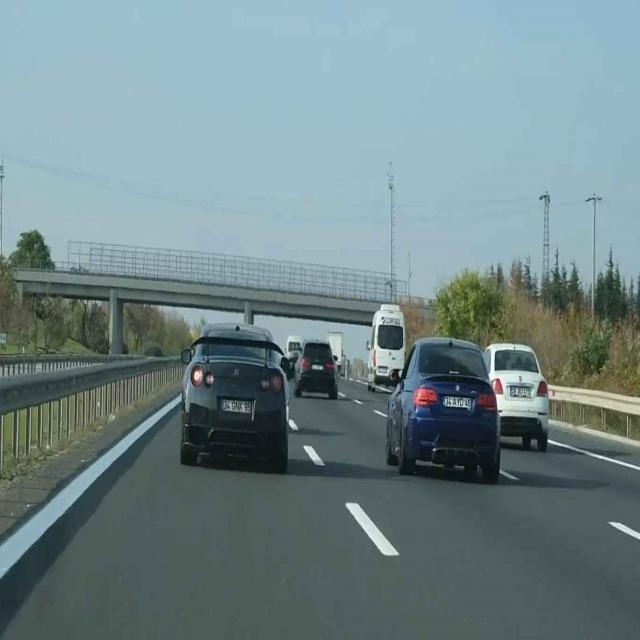plate: (220, 399, 252, 416), (441, 395, 472, 411), (510, 386, 531, 398), (312, 365, 324, 370), (378, 368, 387, 373)
